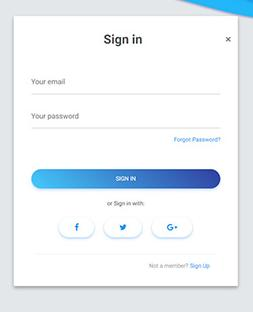field_line: (30, 168, 222, 190), (29, 76, 220, 95), (29, 112, 219, 128)
